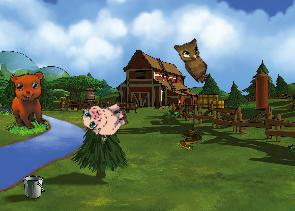bear: (2, 66, 58, 133)
owl: (169, 32, 221, 85)
pig: (78, 92, 132, 144)
